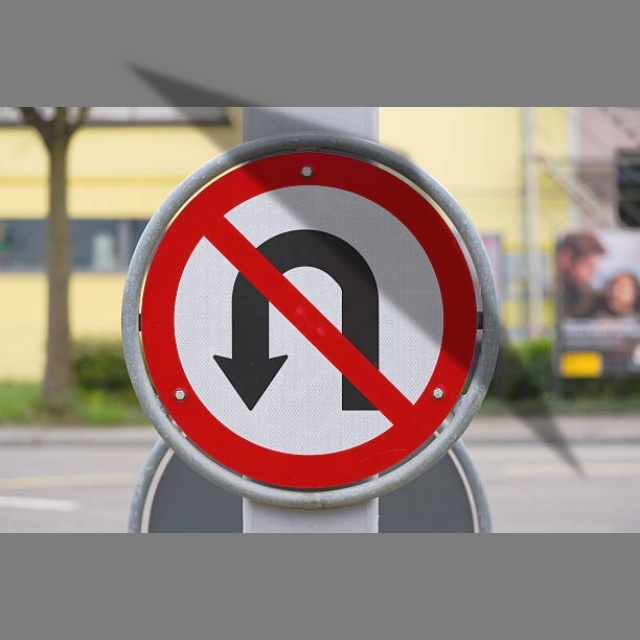U_Turn_Prohibited: (127, 139, 500, 508)
